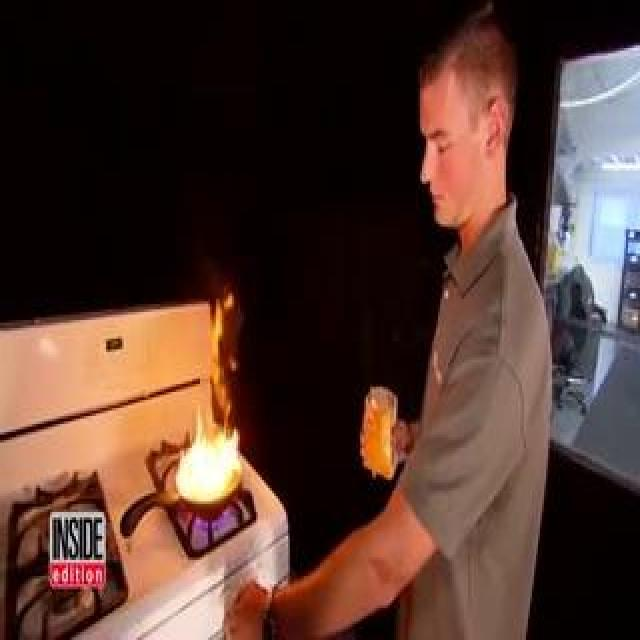Fire: (68, 174, 207, 420)
